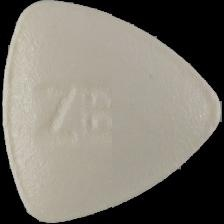0955-1737: (0, 0, 224, 224)
